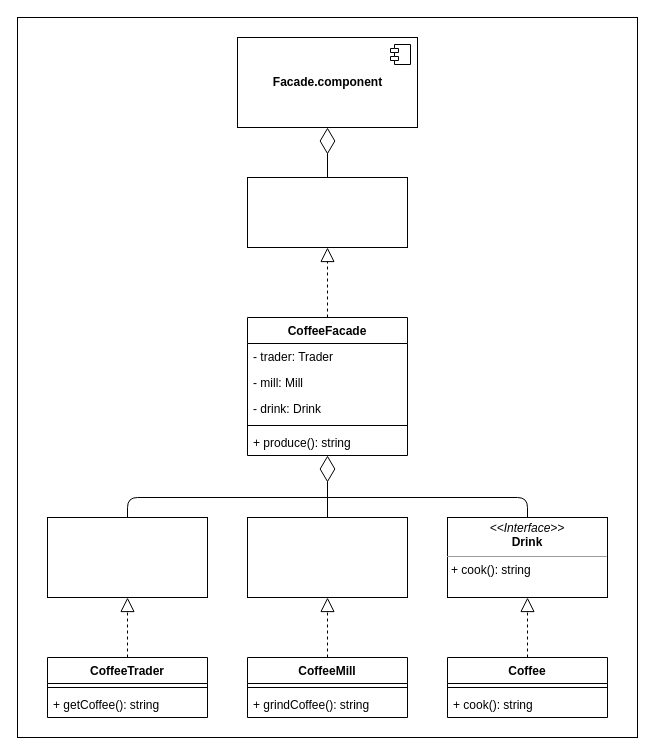
The diagram is 655 pixels wide and 755 high, and some of its shapes have lost their labels. Here are the shapes that lost their labels. From the top down, the centre of each, then its label:
pixel 327 212: <<Interface>> Facade + produce(): string
pixel 127 557: <<Interface>> Trader + getCoffee(): string
pixel 327 557: <<Interface>> Mill + grindCoffee(): string
